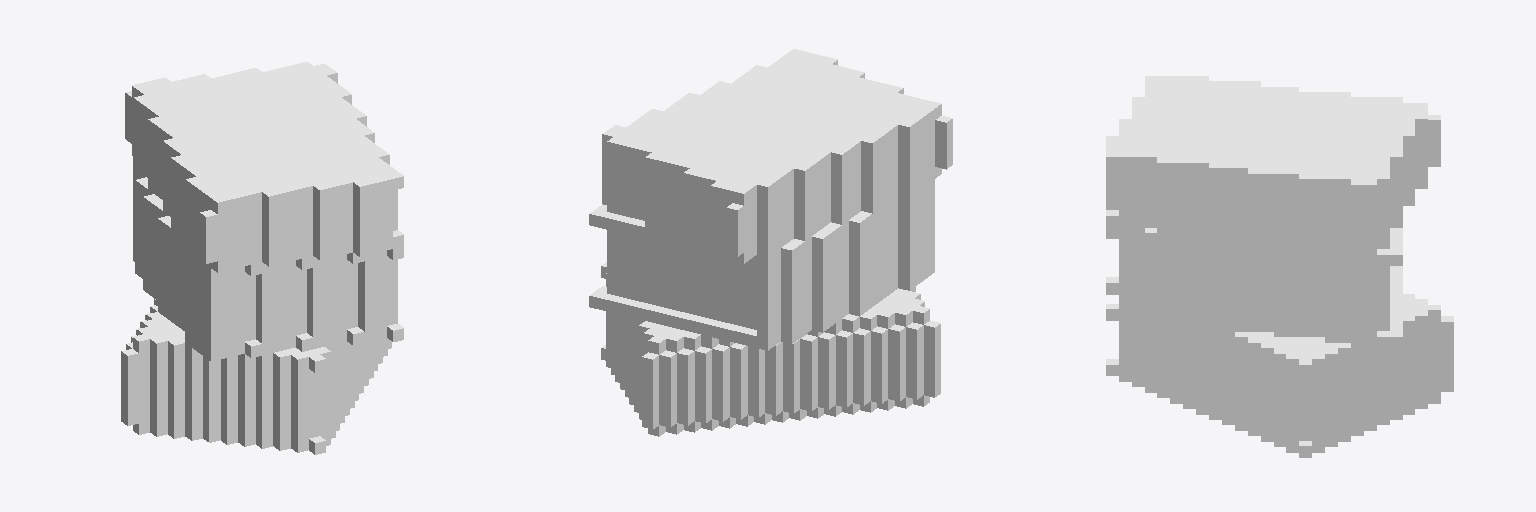
Rendered from books2.obj.
The picture shows the model from 3 angles: view 1: azimuth 30°, elevation 25°; view 2: azimuth 150°, elevation 25°; view 3: azimuth 270°, elevation 25°; orthographic projection.
Visible parts, largest first — view 1: object 1; view 2: object 1; view 3: object 1.
Part boxes in pixels (x1,y1,x2,y2): object 1: (121,62,403,454); object 1: (589,49,952,436); object 1: (1106,76,1453,457).
Bounding box in the file's own units: 2.7 × 2.2 × 2.7.